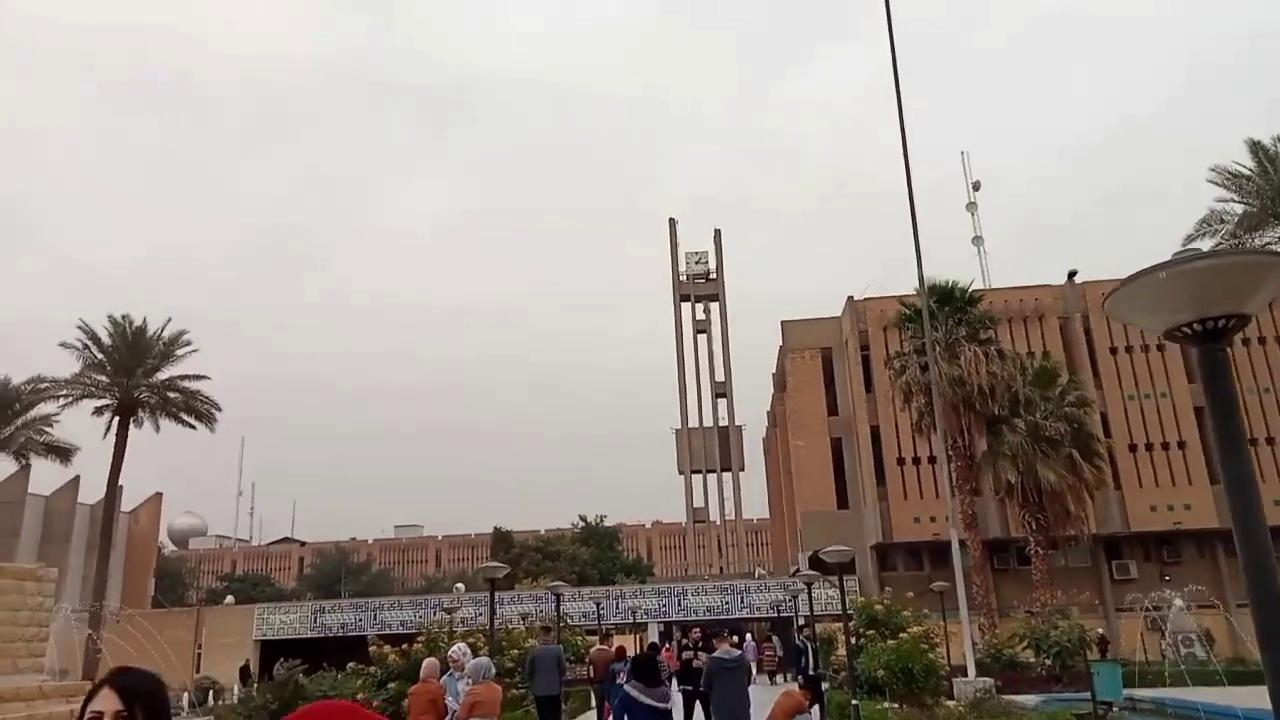fountain: (40, 598, 223, 715), (1115, 582, 1271, 717), (41, 602, 85, 682)
person: (76, 665, 172, 719), (524, 624, 567, 719), (455, 656, 503, 719), (438, 641, 472, 719), (405, 656, 447, 719), (238, 658, 254, 688), (1095, 628, 1110, 659)
tree: (20, 310, 222, 681), (882, 275, 1018, 657), (1173, 130, 1279, 525), (980, 346, 1109, 621), (1176, 130, 1279, 254), (488, 512, 655, 588), (0, 371, 79, 472), (292, 544, 394, 600), (203, 570, 288, 604), (488, 524, 515, 563)
